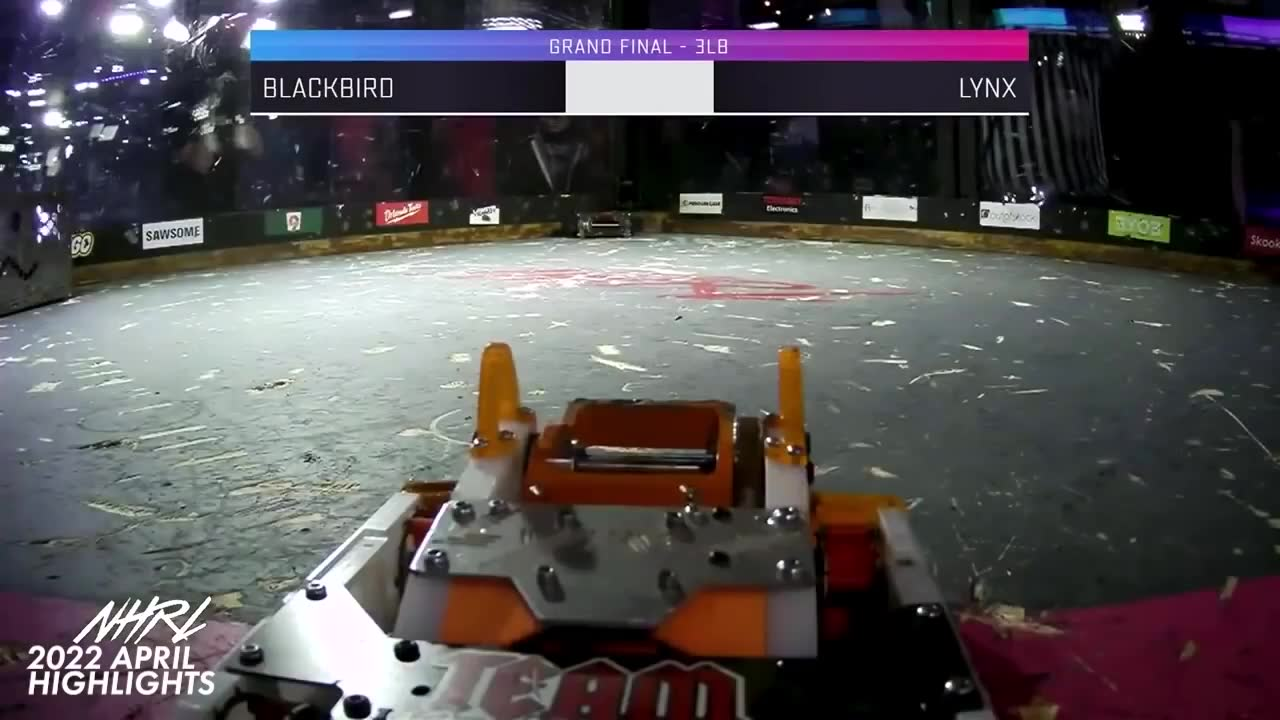combatbot: (170, 342, 992, 720), (571, 211, 637, 238)
housebot: (0, 197, 74, 317)
